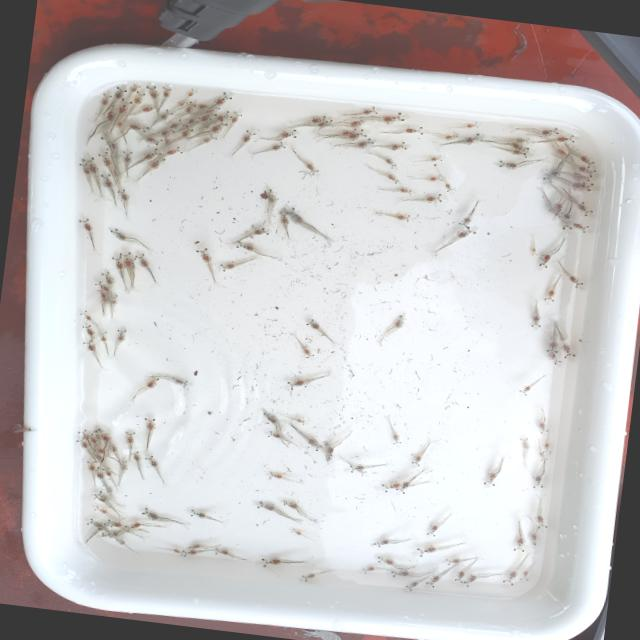babyshrimp: (136, 506, 175, 523), (500, 563, 523, 588), (380, 312, 407, 333), (423, 569, 451, 589), (481, 465, 501, 489), (450, 131, 484, 145), (509, 526, 526, 553), (449, 225, 477, 241), (452, 564, 474, 584), (534, 248, 554, 270), (80, 155, 99, 178), (258, 408, 282, 426), (321, 441, 341, 462), (502, 141, 530, 156), (284, 206, 306, 225), (194, 244, 211, 268), (284, 377, 313, 391), (393, 475, 413, 495), (301, 316, 321, 336), (566, 269, 586, 289), (301, 435, 323, 453), (253, 500, 286, 512), (533, 509, 551, 531), (527, 306, 544, 329), (208, 91, 234, 106), (460, 573, 484, 589), (414, 544, 441, 558), (530, 468, 547, 490), (543, 332, 560, 354), (260, 188, 276, 211), (206, 118, 229, 134), (278, 497, 306, 510), (257, 556, 285, 569), (234, 240, 258, 255), (340, 128, 370, 140), (502, 147, 532, 159), (541, 283, 559, 303), (148, 155, 169, 172), (425, 521, 447, 537), (457, 206, 473, 228), (560, 337, 576, 359), (525, 528, 540, 551), (301, 159, 320, 177), (73, 434, 91, 453), (138, 147, 162, 161), (376, 111, 404, 123), (377, 482, 407, 493), (546, 201, 564, 219), (116, 97, 133, 116), (575, 200, 594, 217), (269, 128, 298, 139), (141, 134, 165, 147), (89, 426, 102, 450), (393, 126, 424, 136), (345, 463, 373, 474), (416, 193, 444, 204), (495, 159, 523, 170), (575, 163, 597, 177), (142, 374, 160, 391), (76, 216, 93, 234), (143, 417, 159, 436), (175, 124, 194, 140), (128, 123, 153, 135), (380, 170, 400, 185), (10, 422, 35, 434), (571, 180, 594, 193), (382, 140, 409, 151), (375, 555, 396, 569), (259, 140, 288, 150), (577, 153, 595, 169), (75, 161, 90, 180), (229, 109, 244, 128), (84, 516, 104, 530), (143, 453, 157, 473), (122, 429, 136, 449), (534, 126, 562, 136), (570, 220, 590, 234), (516, 567, 533, 583), (240, 129, 257, 145), (409, 450, 424, 468), (98, 172, 113, 190), (352, 106, 379, 116), (384, 213, 411, 223), (91, 504, 110, 518), (108, 227, 127, 241), (300, 570, 322, 582), (353, 137, 375, 149), (121, 520, 143, 532), (177, 548, 203, 558), (144, 85, 161, 100), (390, 425, 402, 446), (403, 579, 424, 591), (134, 253, 148, 271), (119, 252, 133, 270), (266, 470, 291, 480), (371, 538, 396, 548), (167, 376, 192, 386), (156, 108, 175, 121), (560, 212, 573, 231), (550, 134, 577, 143), (217, 261, 239, 272), (299, 344, 314, 360), (112, 86, 127, 102), (381, 155, 397, 170), (85, 459, 100, 475), (389, 569, 415, 578), (133, 90, 146, 108), (249, 226, 270, 237), (111, 254, 123, 273), (93, 464, 105, 483), (303, 114, 328, 123), (100, 270, 113, 287), (443, 557, 467, 566), (93, 280, 111, 292), (277, 209, 289, 227), (422, 154, 446, 163), (311, 118, 335, 127), (128, 451, 142, 466), (79, 323, 94, 337), (81, 339, 95, 354), (212, 110, 233, 120), (165, 145, 184, 156), (77, 308, 93, 321), (121, 150, 134, 166), (100, 92, 113, 108), (265, 430, 288, 439), (91, 494, 108, 506), (116, 188, 128, 205), (419, 174, 444, 182), (115, 328, 127, 344), (389, 188, 413, 196), (189, 509, 208, 519), (102, 518, 121, 528), (161, 85, 172, 102), (568, 173, 591, 181), (443, 179, 456, 193), (360, 566, 380, 575), (459, 120, 479, 129), (287, 417, 309, 425), (96, 330, 108, 344), (289, 528, 304, 538), (184, 544, 209, 550), (213, 547, 231, 555), (526, 245, 538, 257), (130, 84, 142, 94), (96, 288, 105, 301), (186, 87, 199, 96)
